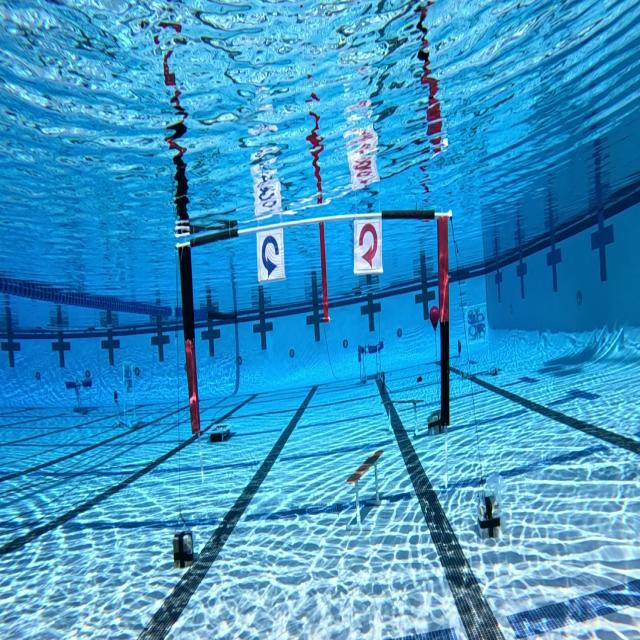blue_side: (256, 226, 283, 279)
red_side: (354, 214, 384, 275)
